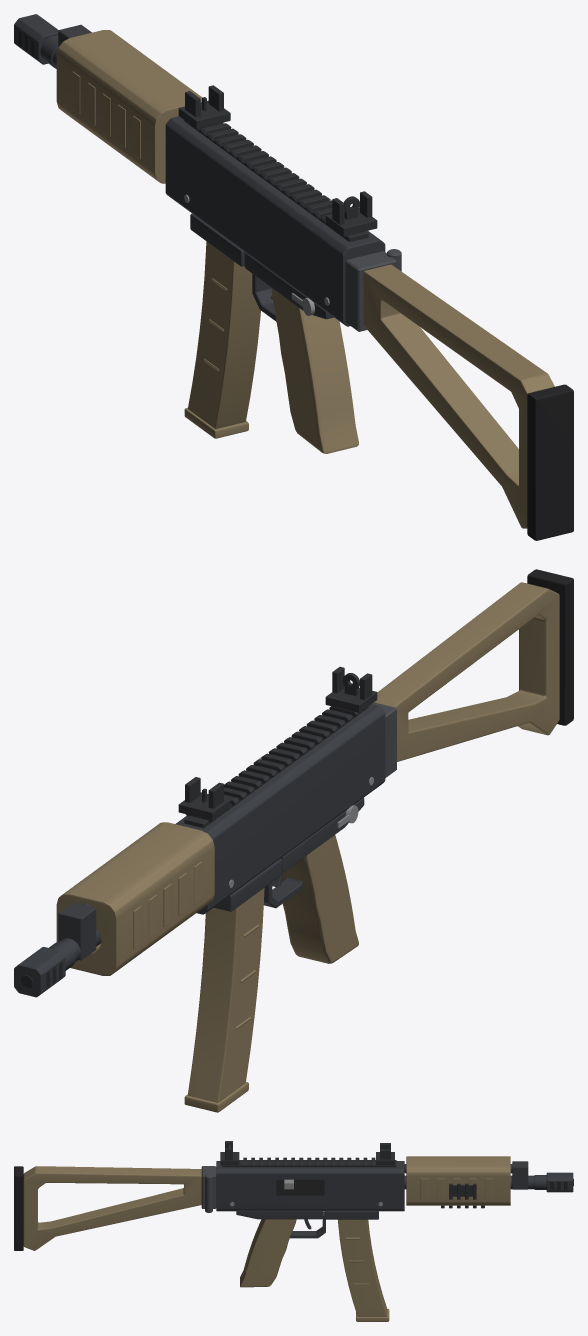
The model's file is wpn_lark_carbine.glb.
3 views of the same model, one above another, from view 1: azimuth 30°, elevation 25°; view 2: azimuth 150°, elevation 25°; view 3: azimuth 270°, elevation 25° (orthographic). The views are drawn at different scales.
Parts seen in each view (by area): view 1: StockArm, Receiver, Handguard, Magazine, Grip, TopRail, IronSights, Stock, MuzzleBrake; view 2: StockArm, Receiver, Handguard, Magazine, Grip, TopRail, IronSights, MuzzleBrake, GasTube, Stock, TriggerGroup; view 3: Receiver, StockArm, Handguard, Magazine, Grip, TopRail, ReceiverDetails, Stock, IronSights, MuzzleBrake, GasTube, HandguardRail (+2 smaller).
Boxes of the visible parts, bbox=[...] form: StockArm: bbox=[363, 264, 573, 540]; Receiver: bbox=[165, 116, 385, 326]; Handguard: bbox=[56, 30, 202, 183]; Magazine: bbox=[184, 241, 260, 438]; Grip: bbox=[271, 288, 358, 453]; TopRail: bbox=[184, 120, 368, 241]; IronSights: bbox=[178, 85, 377, 236]; Stock: bbox=[345, 249, 401, 331]; MuzzleBrake: bbox=[14, 14, 58, 64]; StockArm: bbox=[374, 569, 573, 761]; Receiver: bbox=[175, 704, 385, 914]; Handguard: bbox=[56, 822, 214, 975]; Magazine: bbox=[184, 888, 264, 1112]; Grip: bbox=[281, 835, 358, 963]; TopRail: bbox=[184, 706, 368, 828]; IronSights: bbox=[178, 666, 377, 820]; MuzzleBrake: bbox=[14, 945, 70, 997]; GasTube: bbox=[58, 902, 96, 960]; Stock: bbox=[372, 702, 396, 777]; TriggerGroup: bbox=[263, 872, 303, 908]; Receiver: bbox=[216, 1161, 404, 1219]; StockArm: bbox=[14, 1166, 201, 1250]; Handguard: bbox=[406, 1156, 510, 1205]; Magazine: bbox=[338, 1219, 389, 1321]; Grip: bbox=[240, 1219, 296, 1287]; TopRail: bbox=[221, 1157, 396, 1167]; ReceiverDetails: bbox=[230, 1179, 382, 1206]; Stock: bbox=[201, 1166, 216, 1212]; IronSights: bbox=[220, 1141, 394, 1164]; MuzzleBrake: bbox=[541, 1172, 573, 1192]; GasTube: bbox=[404, 1161, 528, 1189]; HandguardRail: bbox=[441, 1183, 484, 1208].
Bounding box in the file's own units: 0.0525 × 0.2372 × 0.6979.
